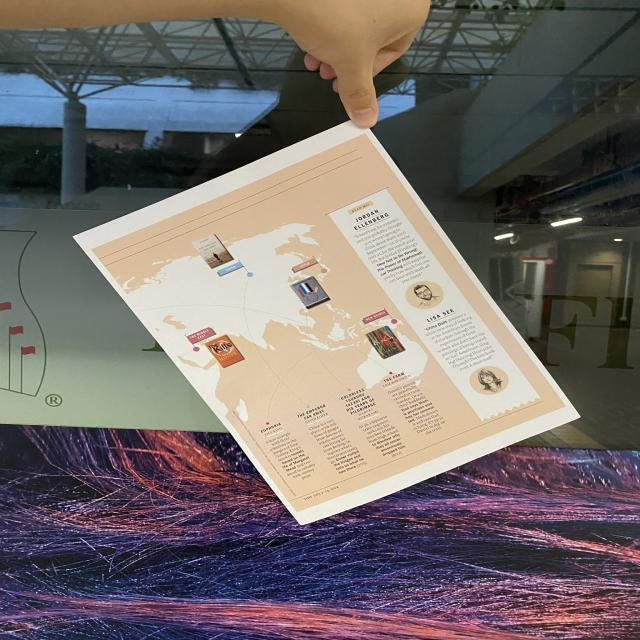document: (75, 122, 578, 524)
